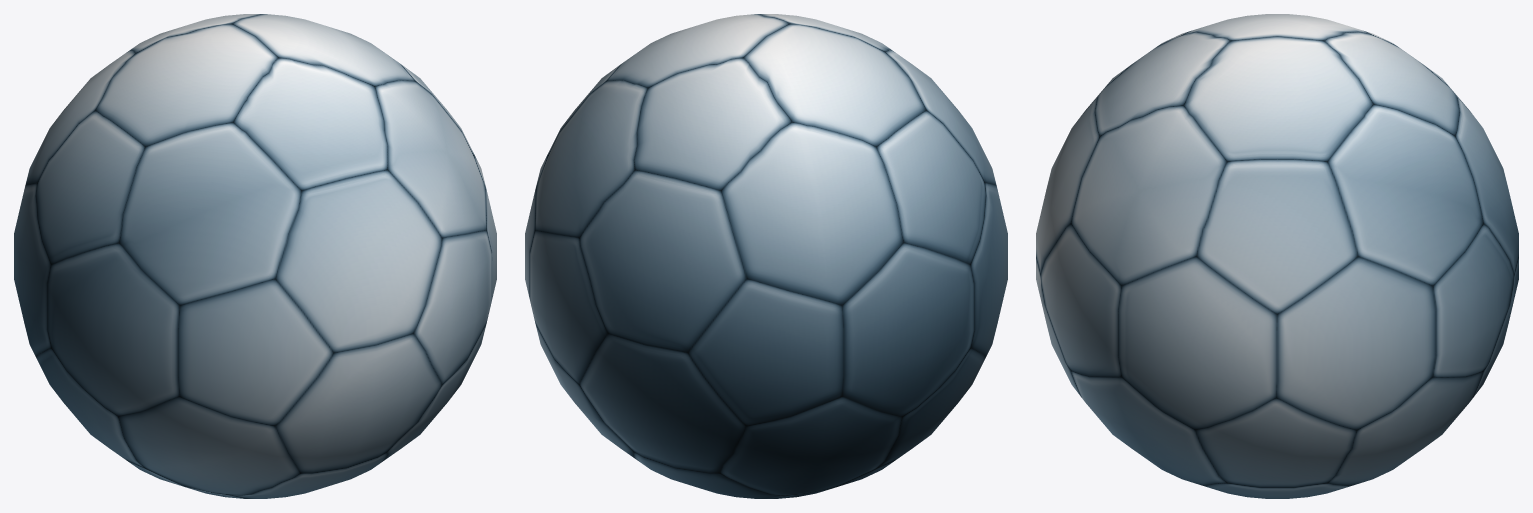
Rendered from balonGlass.gltf.
3 renders of one model, left to right at view 1: azimuth 30°, elevation 25°; view 2: azimuth 150°, elevation 25°; view 3: azimuth 270°, elevation 25°, orthographic.
Visible parts, largest first — view 1: Object_2; view 2: Object_2; view 3: Object_2.
Boxes of the visible parts, x1,y1,x2,y2 form: Object_2: (14, 14, 496, 498); Object_2: (525, 14, 1007, 498); Object_2: (1036, 14, 1518, 498).
Bounding box in the file's own units: 59.15 × 59.8 × 59.47.
Materials: 1 (1 with a texture image).
